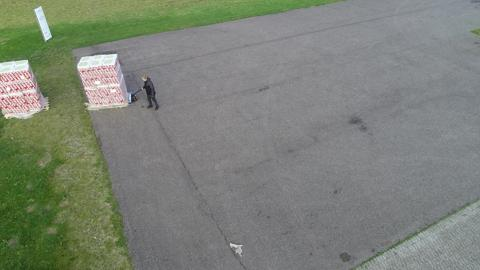RockwoolPallet: (1, 58, 45, 120)
